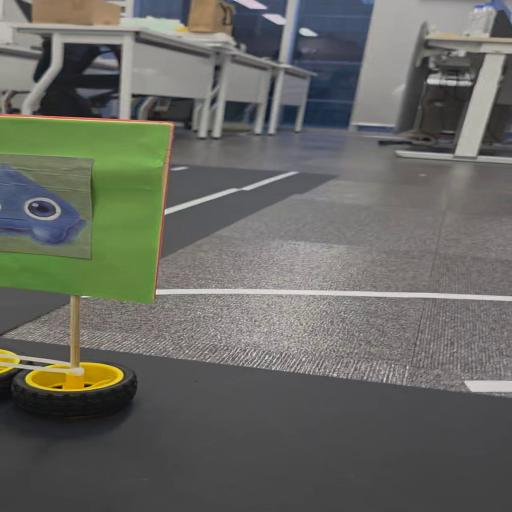Sign_B: (2, 110, 175, 420)
